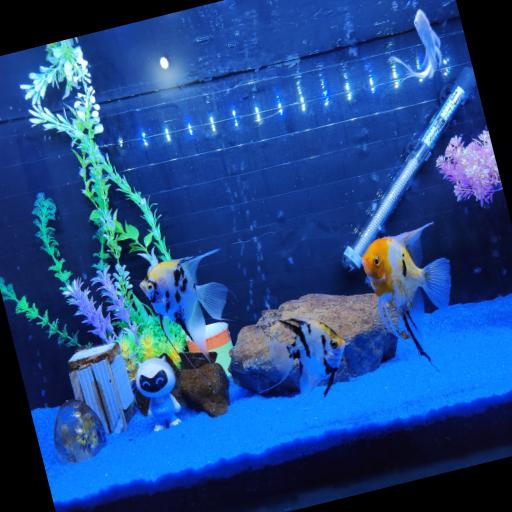Fish: (362, 224, 451, 361), (141, 249, 228, 357), (269, 318, 345, 397), (391, 9, 442, 79)
